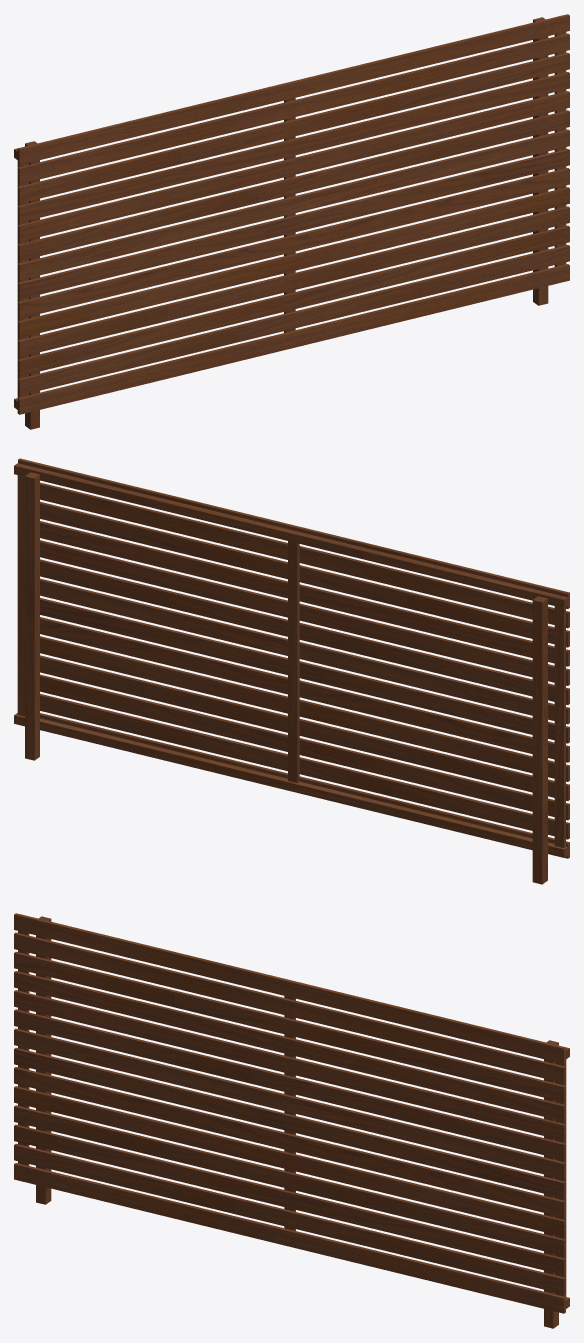
File: EAF-plus-53_w1999-h1000_walnut.fbx
3 views of the same model, one above another, from view 1: azimuth 30°, elevation 25°; view 2: azimuth 150°, elevation 25°; view 3: azimuth 330°, elevation 25° (orthographic).
Parts seen in each view (by area): view 1: EAF-plus-53_w1999-h1000_chacoalgray.004; view 2: EAF-plus-53_w1999-h1000_chacoalgray.004; view 3: EAF-plus-53_w1999-h1000_chacoalgray.004.
Part boxes in pixels (x1,y1,x2,y2): EAF-plus-53_w1999-h1000_chacoalgray.004: [14, 14, 569, 429]; EAF-plus-53_w1999-h1000_chacoalgray.004: [14, 458, 569, 884]; EAF-plus-53_w1999-h1000_chacoalgray.004: [14, 913, 569, 1328].
Bounding box in the file's own units: 200 × 99.97 × 7.
1 material, 1 textured.
